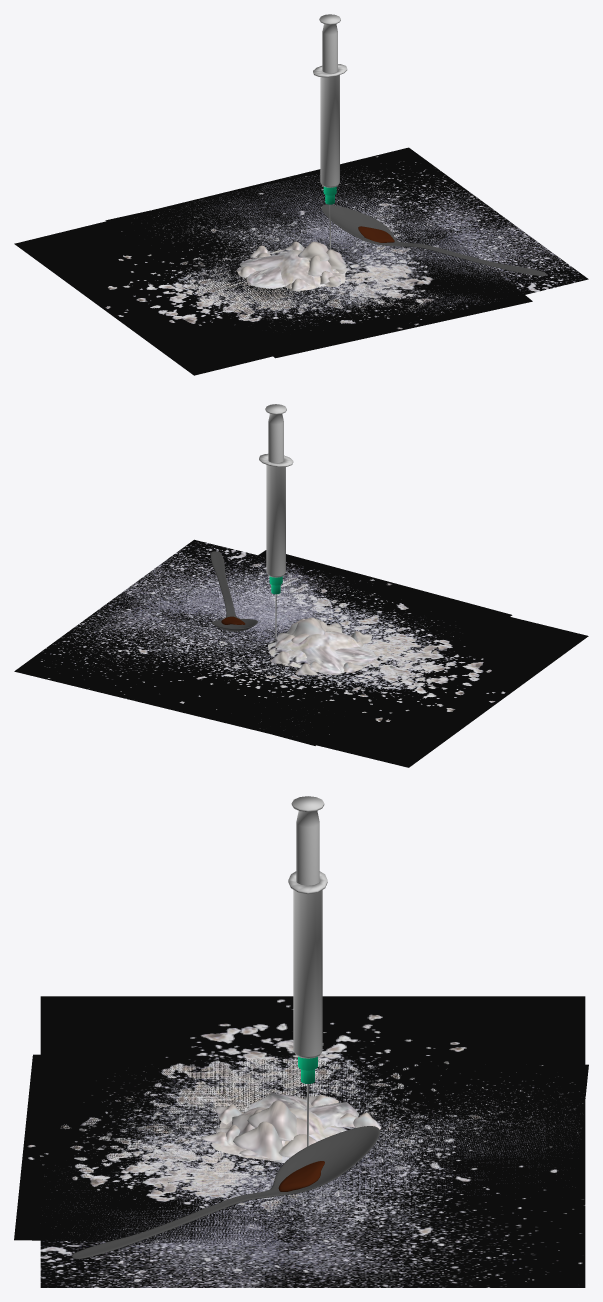
The model's file is Putau.fbx.
The picture shows the model from 3 angles, top to bottom: view 1: azimuth 30°, elevation 25°; view 2: azimuth 150°, elevation 25°; view 3: azimuth 270°, elevation 25°; orthographic projection. The views are drawn at different scales.
Visible parts, largest first — view 1: putau.kristal, Suntikan, Sendok; view 2: putau.kristal, Suntikan, Sendok; view 3: putau.kristal, Suntikan, Sendok, putau.cair.
Part boxes in pixels (x1,y1,x2,y2): putau.kristal: (14,147,588,375); Suntikan: (313,14,347,249); Sendok: (321,204,546,276); putau.kristal: (14,539,588,767); Suntikan: (259,404,293,642); Sendok: (210,551,257,631); putau.kristal: (14,996,588,1287); Suntikan: (288,796,327,1146); Sendok: (71,1126,379,1259); putau.cair: (278,1161,324,1191).
Size of the model in its own units: 974 by 579 by 812.
